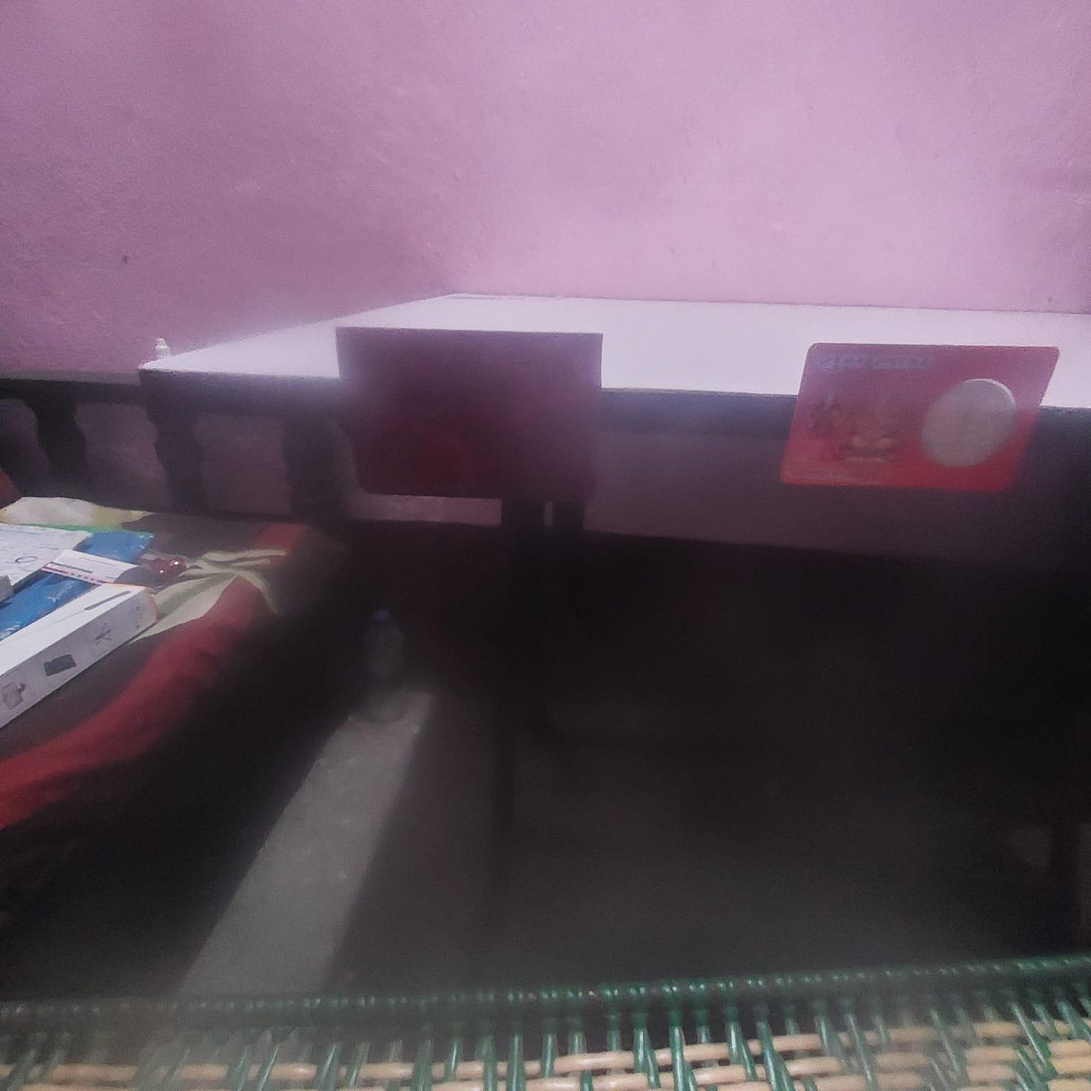blessing_card: (767, 331, 1069, 489)
wallet: (335, 308, 607, 510)
